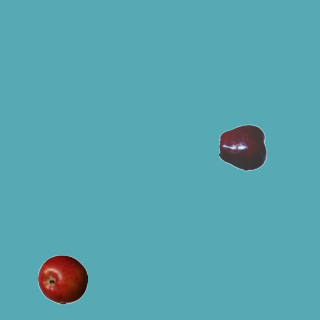Apple Braeburn: (37, 254, 87, 304)
Apple Red Delicious: (218, 122, 268, 172)
